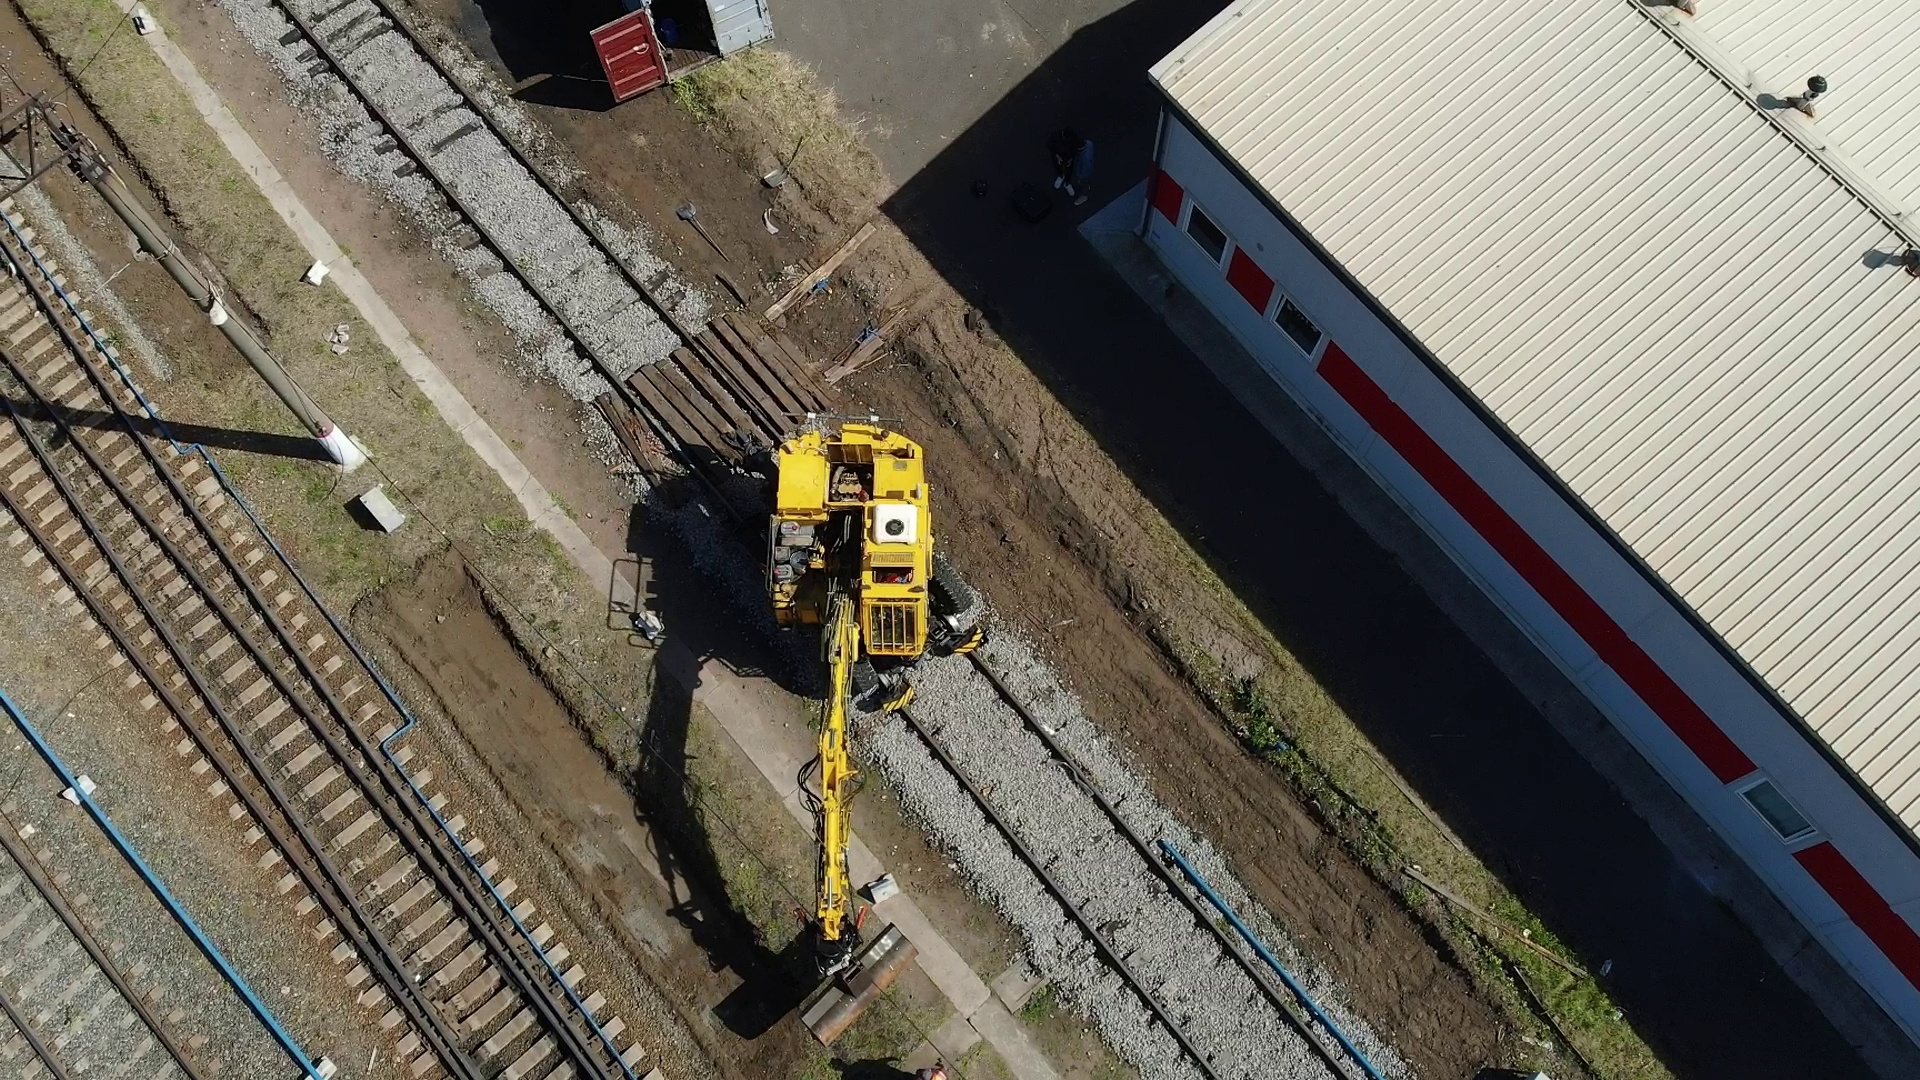kjtv: (756, 422, 969, 688)
